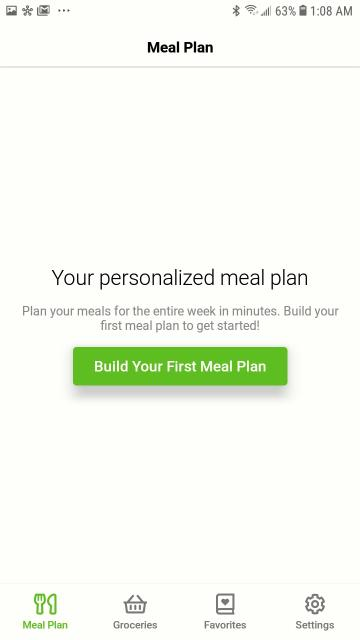Bottom_Navigation: (0, 584, 360, 640)
Icon: (34, 593, 56, 615), (123, 594, 147, 614), (305, 594, 325, 614), (216, 594, 234, 614)
Text: (22, 306, 338, 332), (51, 268, 307, 290), (94, 361, 266, 372), (147, 41, 213, 53), (294, 620, 334, 630), (22, 620, 68, 628), (113, 620, 157, 628), (204, 620, 246, 628)
TextButton: (72, 346, 288, 386)
TextImageButton: (22, 592, 68, 628), (113, 594, 157, 628), (204, 594, 246, 628), (296, 594, 334, 630)
UpperTaskBar: (0, 0, 359, 16)
